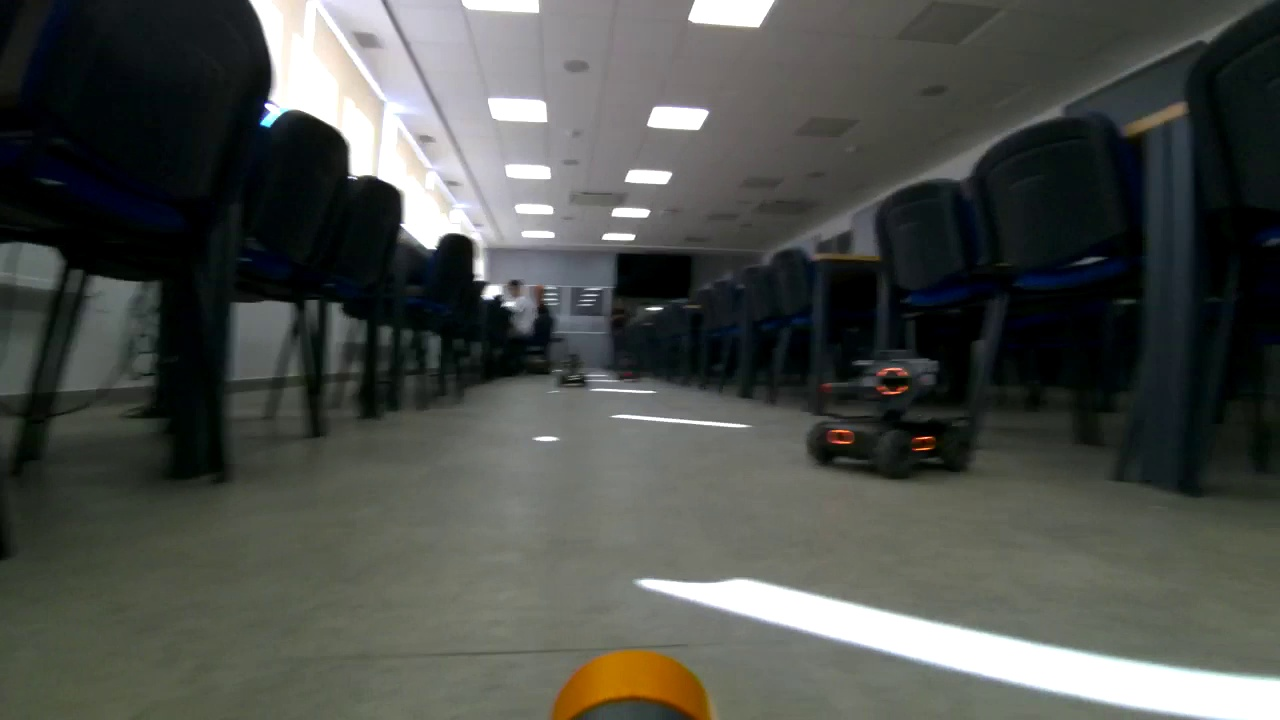robot: (809, 350, 977, 482)
